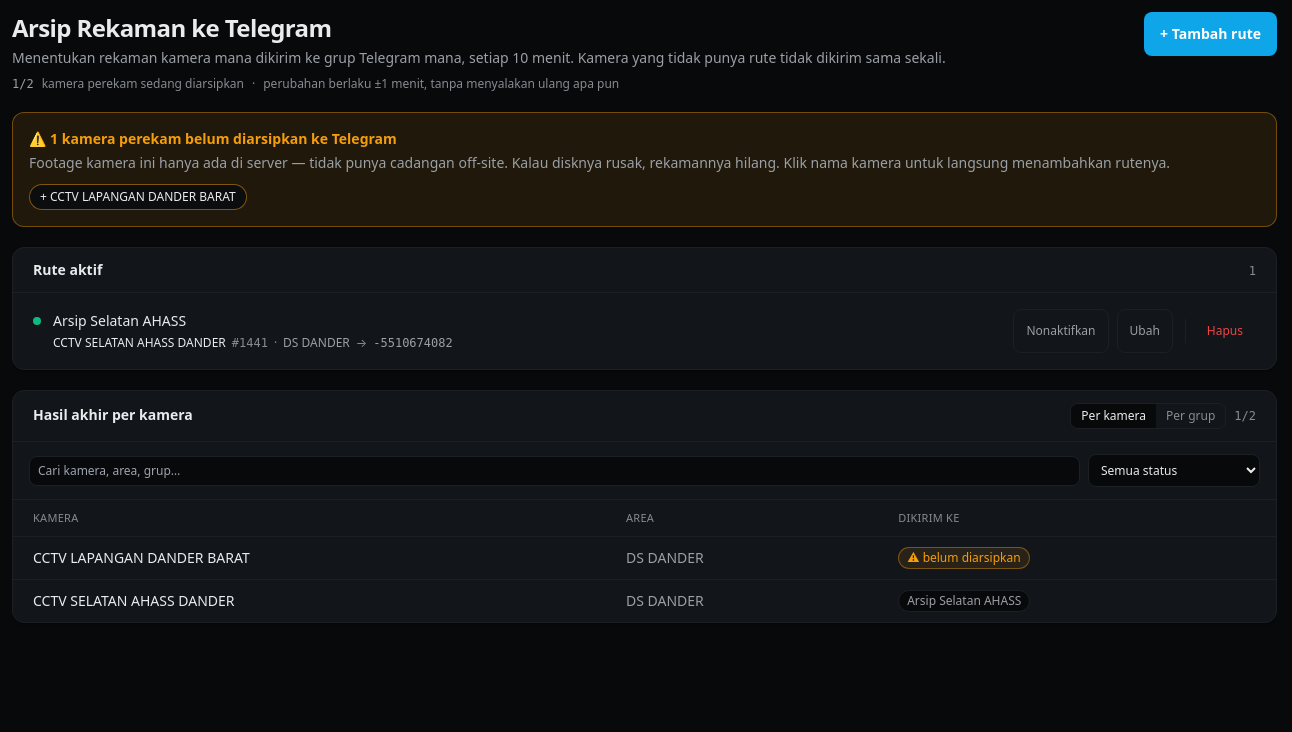
Test: per-camera filter bar › shows an empty state when nothing matches
Expected: the button "+ Tambah rute" is shown, [1144,12,1277,56]
Type "zzz-tidak-ada" into the search field with placeholder "Cari kamera, area, grup…" at (554, 470), box [29,456,1080,486]
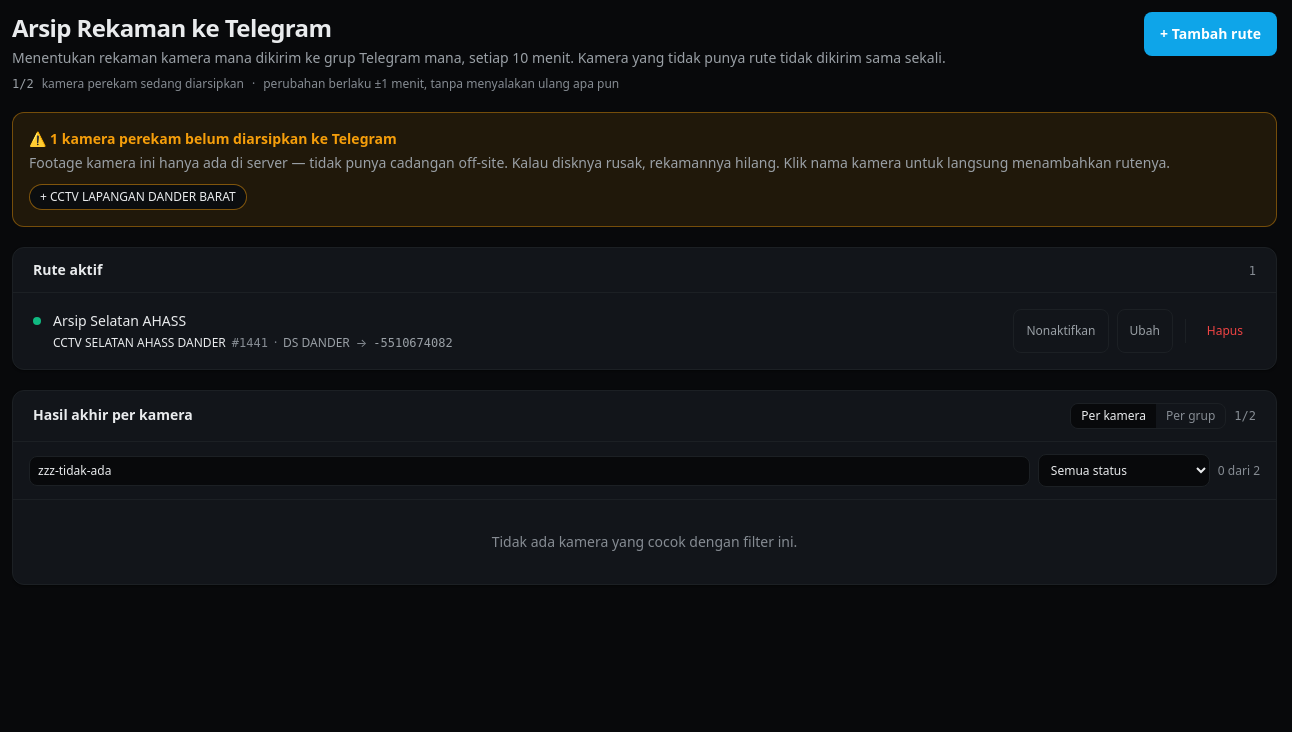
Expected: the text "Tidak ada kamera yang cocok dengan filter ini." is shown, [492,532,797,551]
